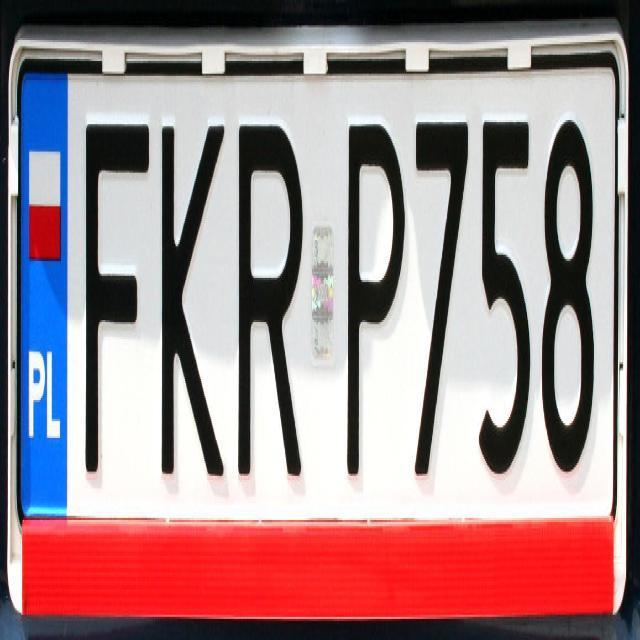License_Plate: (19, 66, 614, 514)
